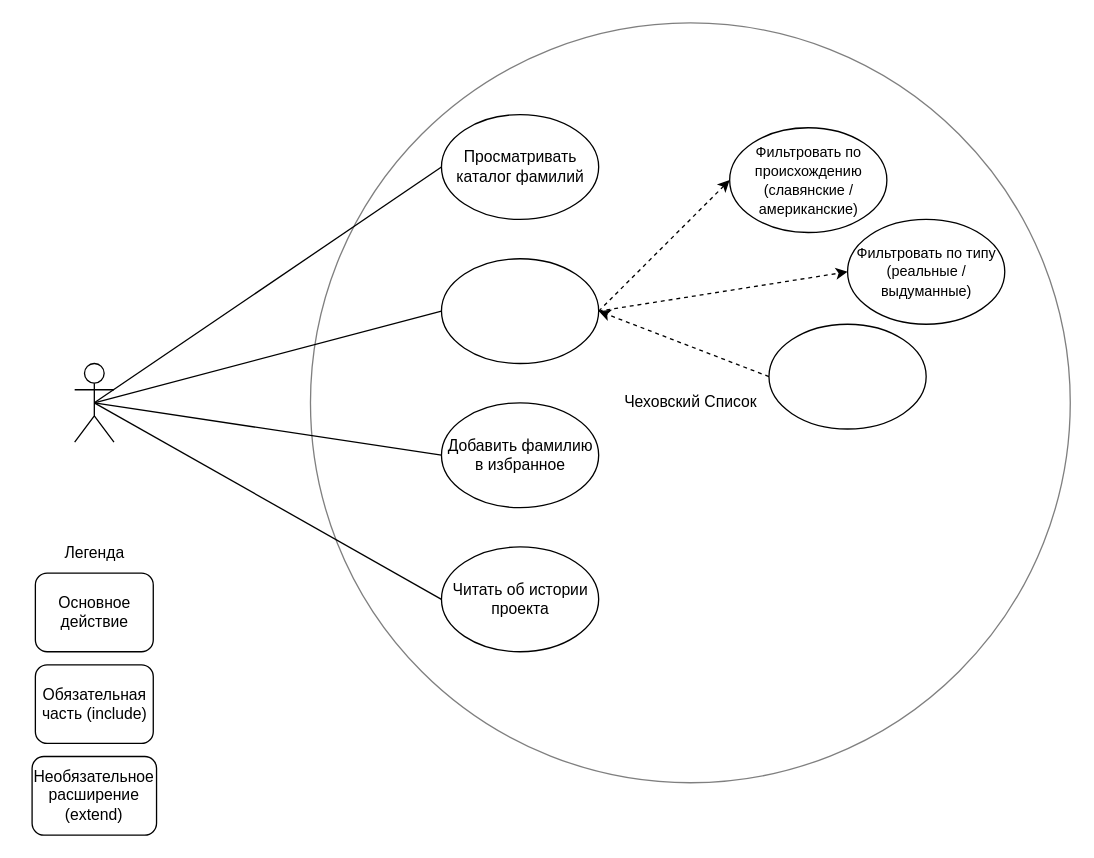
Some shapes in this 1094 by 858 pixel diagram are drawn without their labels. Each missing label, with the box of its shape:
Пользователь (14+): (73, 362, 114, 442)
Сбросить фильтры: (768, 323, 926, 429)
Фильтровать фамилии: (440, 257, 599, 364)
